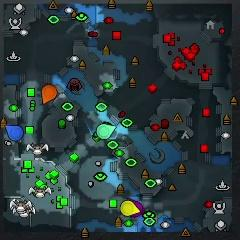p1: (5, 125, 24, 142)
p2: (97, 124, 116, 140)
p3: (128, 200, 144, 217)
p4: (120, 200, 140, 215)
p5: (42, 85, 57, 104)
